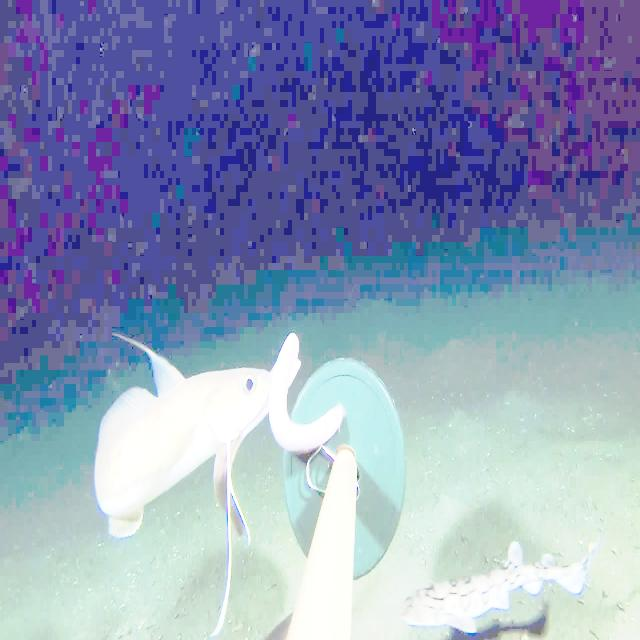eel: (263, 312, 349, 468)
fish: (78, 348, 272, 558), (389, 530, 599, 640)
pole: (276, 353, 410, 639)
